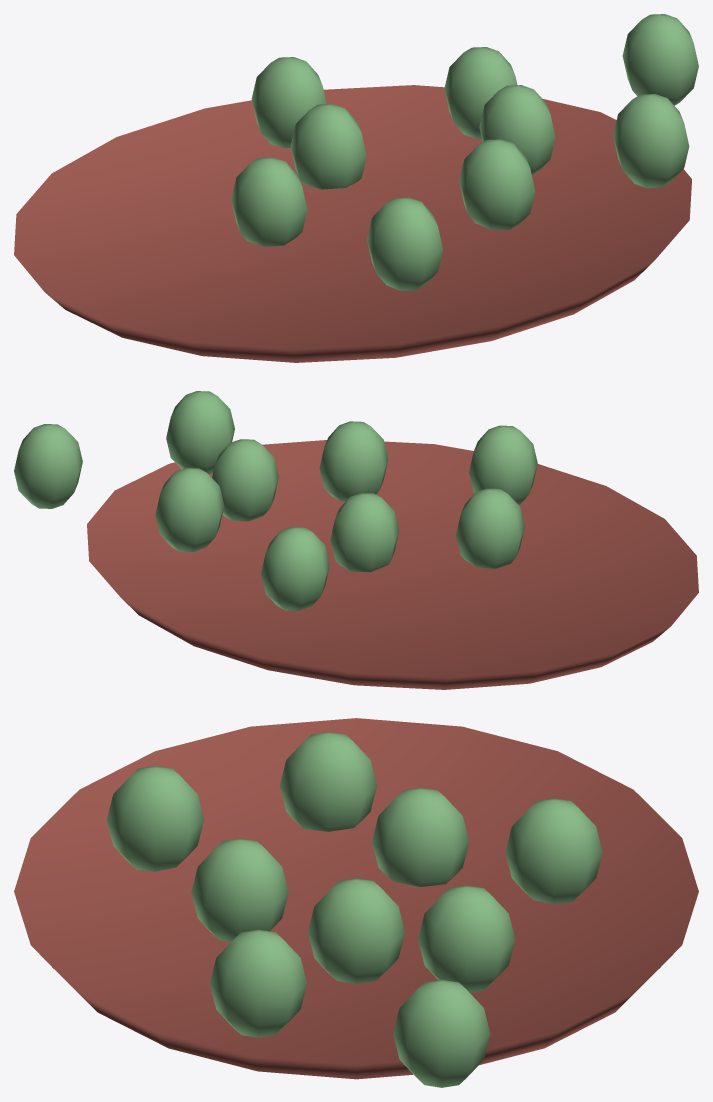
File: dinner_sauce_peas.glb
3 views of the same model, one above another, from view 1: azimuth 30°, elevation 25°; view 2: azimuth 150°, elevation 25°; view 3: azimuth 270°, elevation 25° (orthographic). The views are drawn at different scales.
Visible parts, largest first — view 1: dinner_sauce_peas; view 2: dinner_sauce_peas; view 3: dinner_sauce_peas.
Part boxes in pixels (x1,y1,x2,y2): dinner_sauce_peas: (14,14,698,362); dinner_sauce_peas: (14,391,698,689); dinner_sauce_peas: (14,718,698,1087).
Size of what is drawn, in the model's own units: 0.16 by 0.025 by 0.12.
